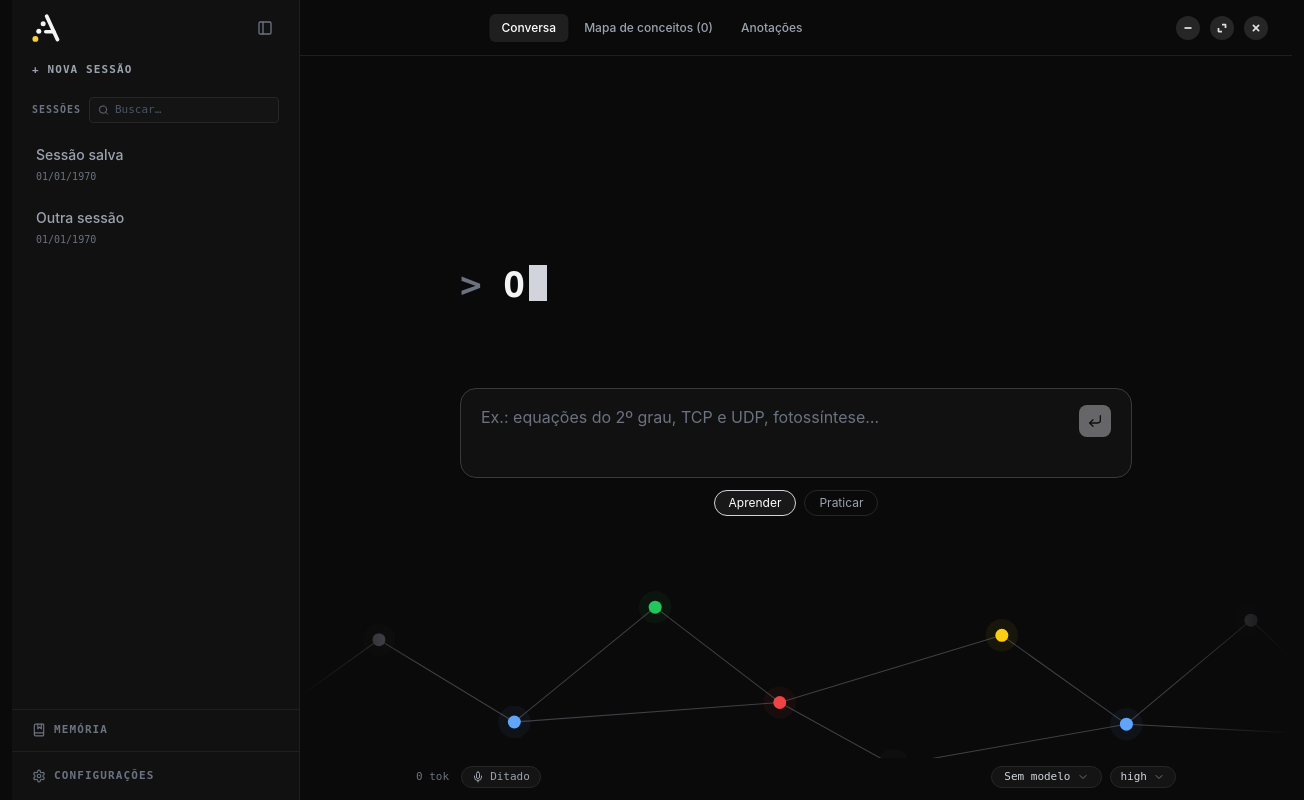
Test: App session navigation › F4: opening another session replaces what was on screen
Click the text "Sessão salva": [80, 155] box [36,145,124,165]
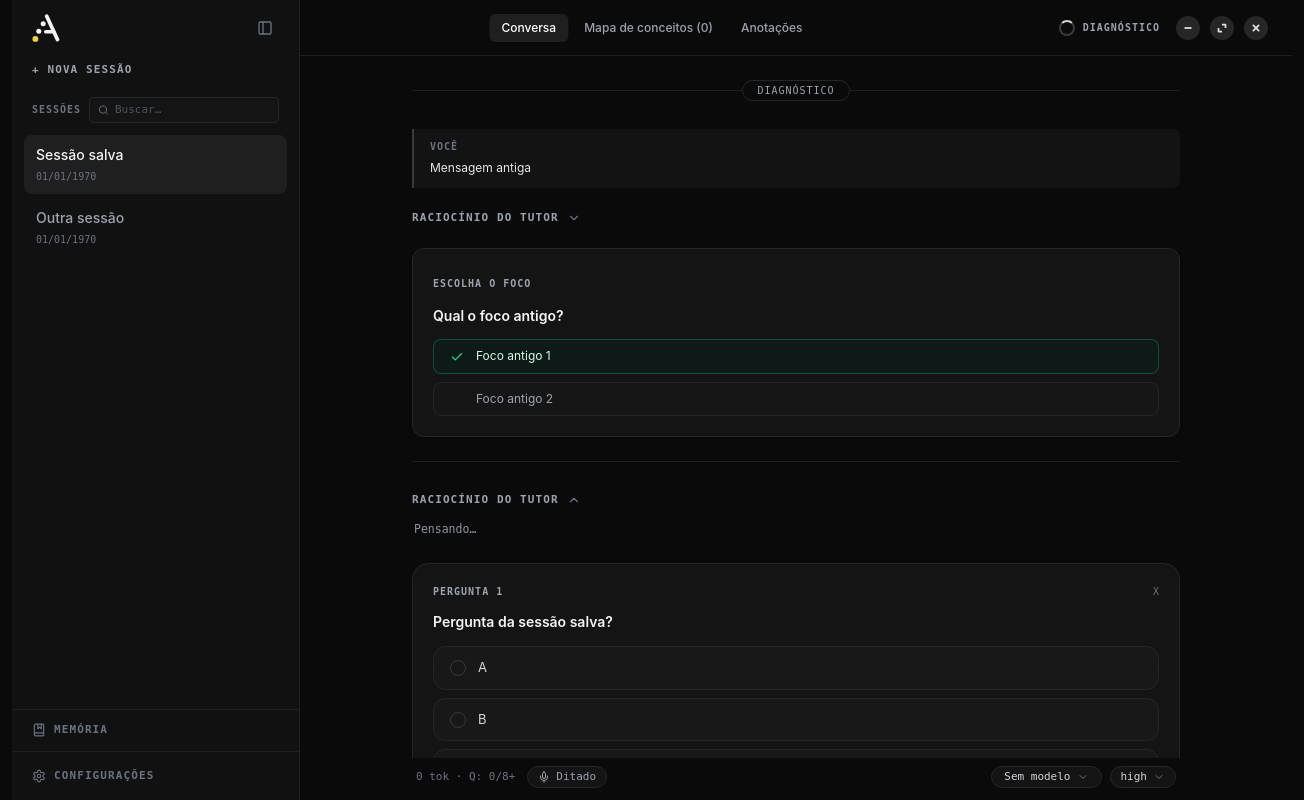
Now the text "Pergunta da sessão salva?" is shown, box [433,613,613,630]
Click the text "Outra sessão": [80, 218] box [36,208,124,228]
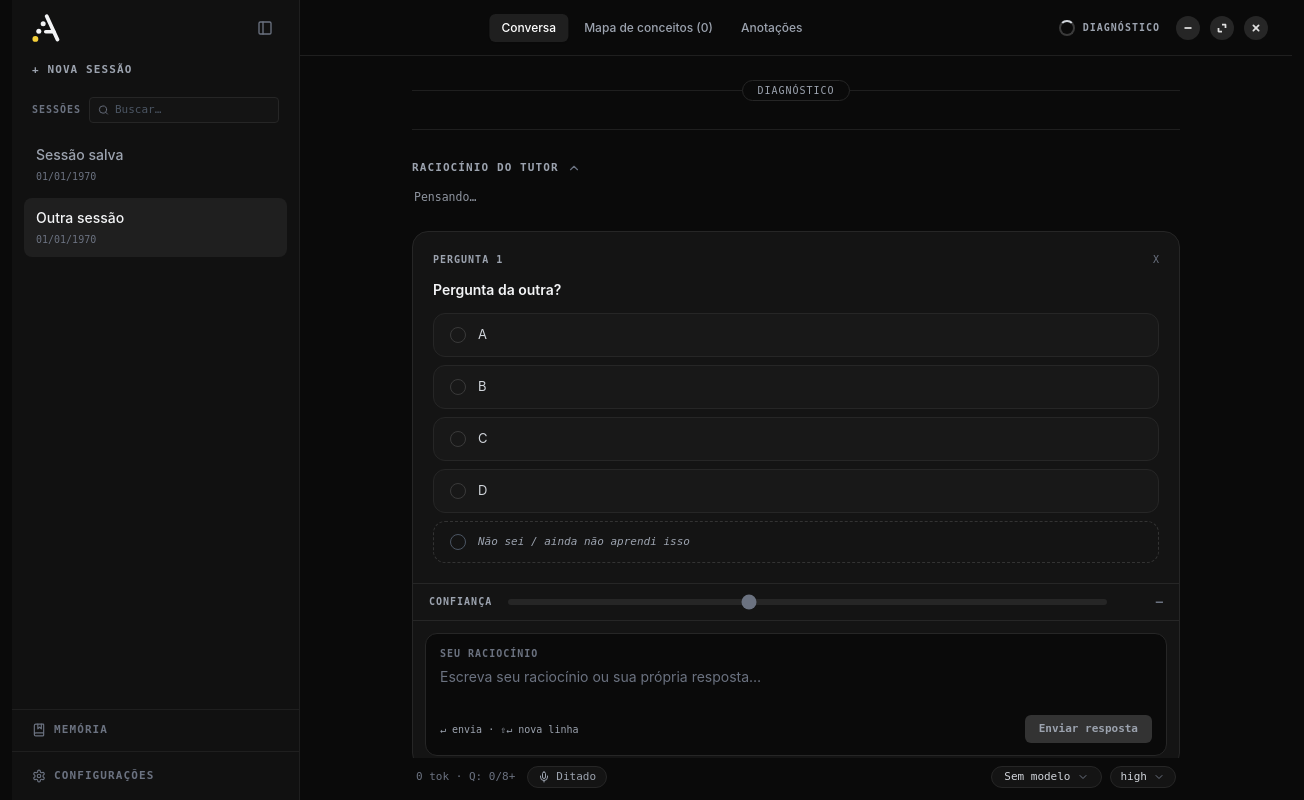
Now the text "Pergunta da outra?" is shown, box [433,281,561,298]
Now the text "Pergunta da sessão salva?" is gone
Now the text "Mensagem antiga" is gone
